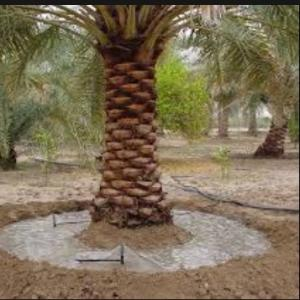palm tree: (2, 3, 224, 228), (190, 4, 299, 159)
